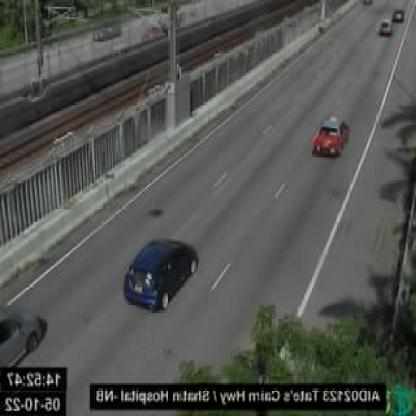Car: (122, 238, 199, 310), (1, 298, 42, 368), (312, 113, 351, 154), (377, 18, 391, 36)
